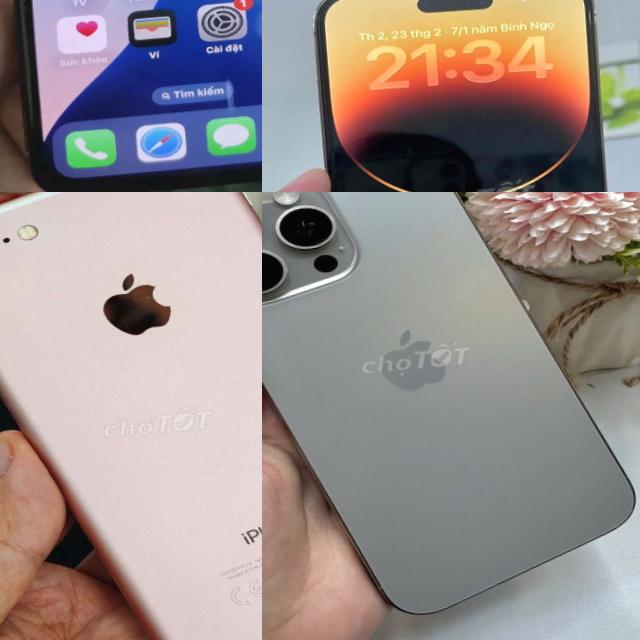scratch: (124, 288, 155, 304), (206, 614, 228, 635)
